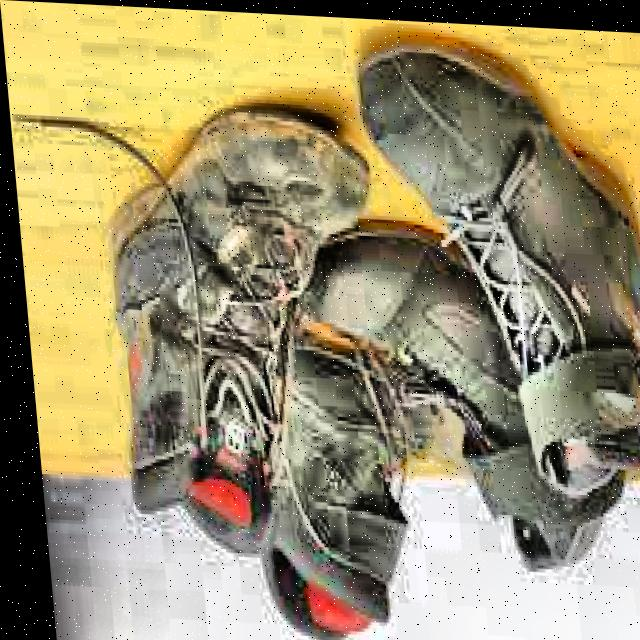shoes: (30, 2, 640, 640)
